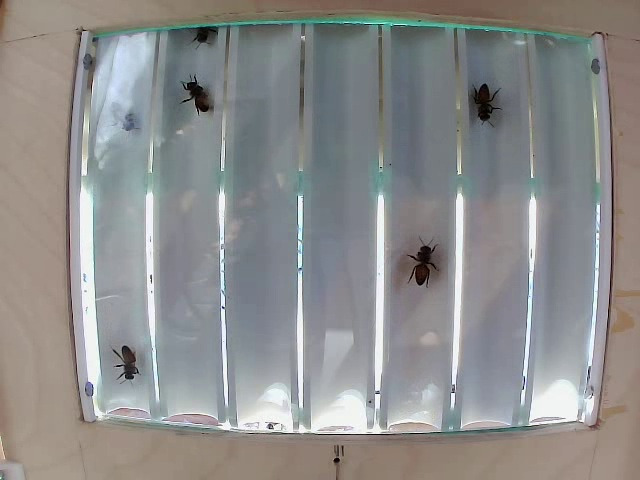bee: (405, 236, 443, 290), (103, 108, 147, 146), (174, 86, 219, 123), (457, 88, 496, 129), (185, 24, 229, 54), (101, 346, 137, 376)
